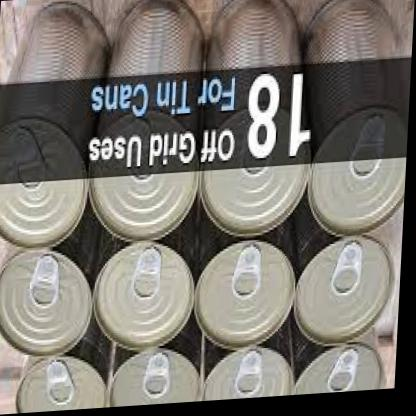Metal: (0, 0, 413, 414)
